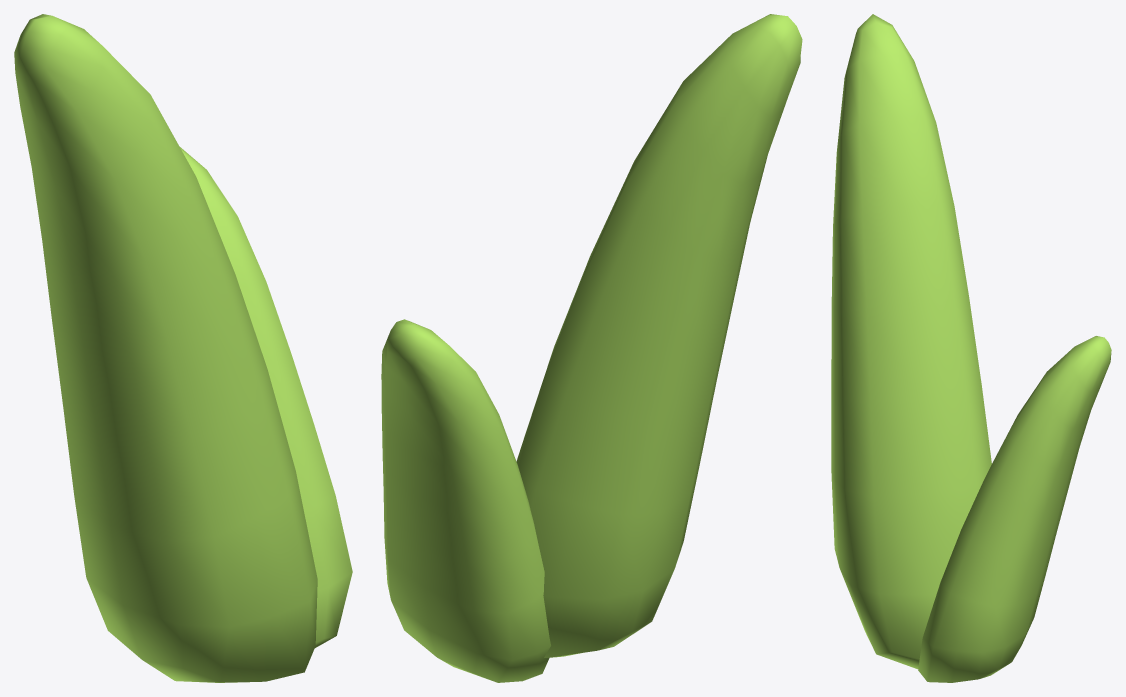
File: pasto 2 hojas  uv.fbx
3 renders of one model, left to right at view 1: azimuth 30°, elevation 25°; view 2: azimuth 150°, elevation 25°; view 3: azimuth 270°, elevation 25°, orthographic. The views are drawn at different scales.
Parts seen in each view (by area): view 1: pasto 2 hojas; view 2: pasto 2 hojas; view 3: pasto 2 hojas.
Boxes of the visible parts, x1,y1,x2,y2 form: pasto 2 hojas: (14,14,352,682); pasto 2 hojas: (381,14,802,682); pasto 2 hojas: (831,14,1111,682).
Size of the model in its own units: 118 by 219 by 98.25.
